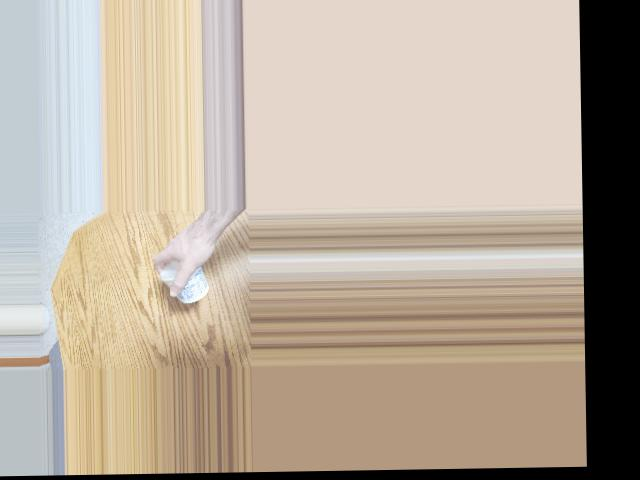cotage: (158, 257, 212, 305)
